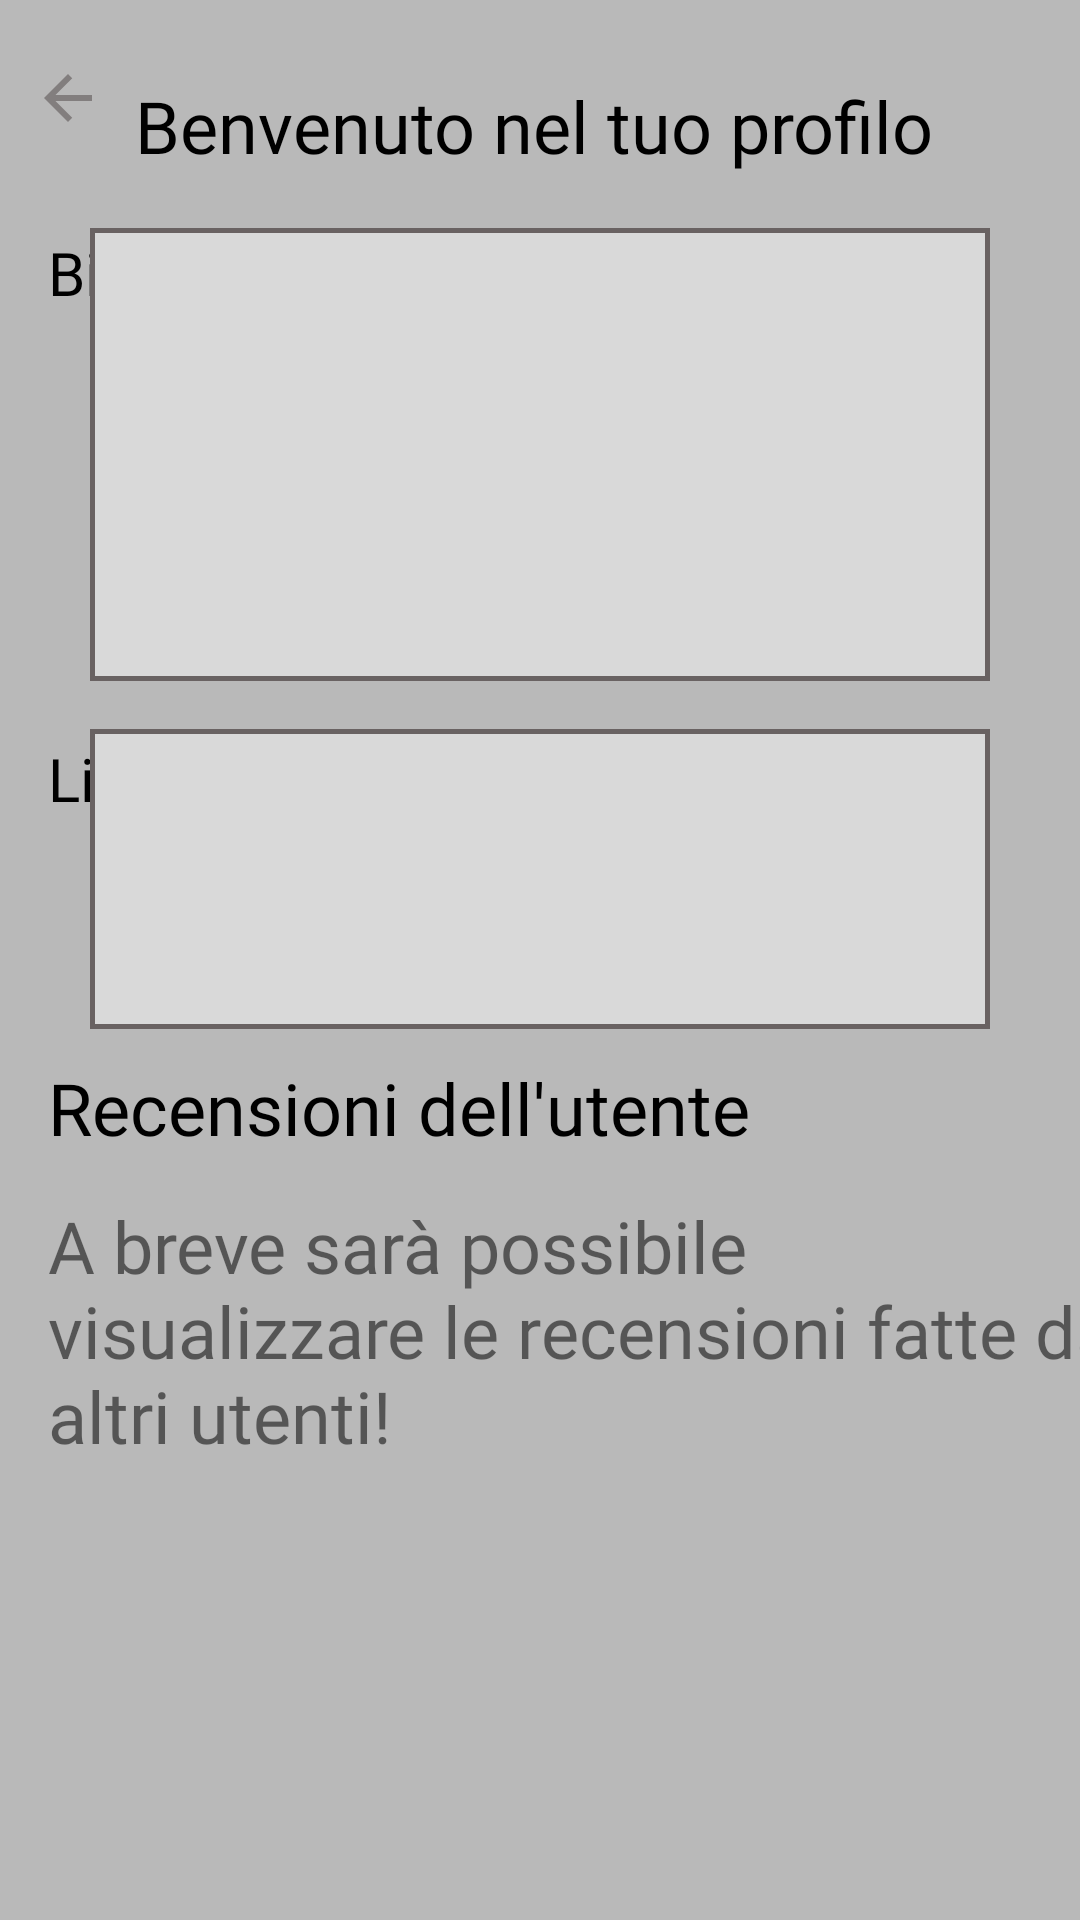

Screen size 1080×1920. Icon name, then its center in pixels as (x=x, y=y):
Indietro: (x=68, y=98)
